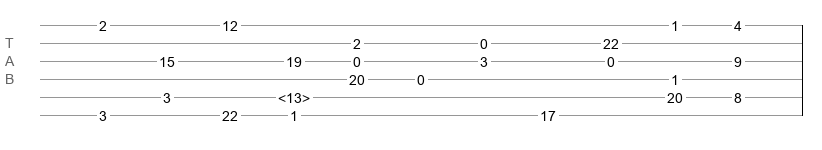0: (353, 54, 361, 64), (417, 72, 425, 82), (480, 36, 488, 46), (607, 54, 615, 64)
1: (290, 108, 298, 118), (671, 18, 679, 28), (671, 72, 679, 82)
12: (222, 18, 238, 28)
15: (159, 54, 175, 64)
17: (540, 108, 556, 118)
19: (286, 54, 302, 64)
2: (99, 18, 107, 28), (353, 36, 361, 46)
20: (349, 72, 365, 82), (667, 90, 683, 100)
22: (222, 108, 238, 118), (603, 36, 619, 46)
3: (99, 108, 107, 118), (163, 90, 171, 100), (480, 54, 488, 64)
4: (734, 18, 742, 28)
8: (734, 90, 742, 100)
9: (734, 54, 742, 64)
harmonic: (278, 90, 310, 100)
